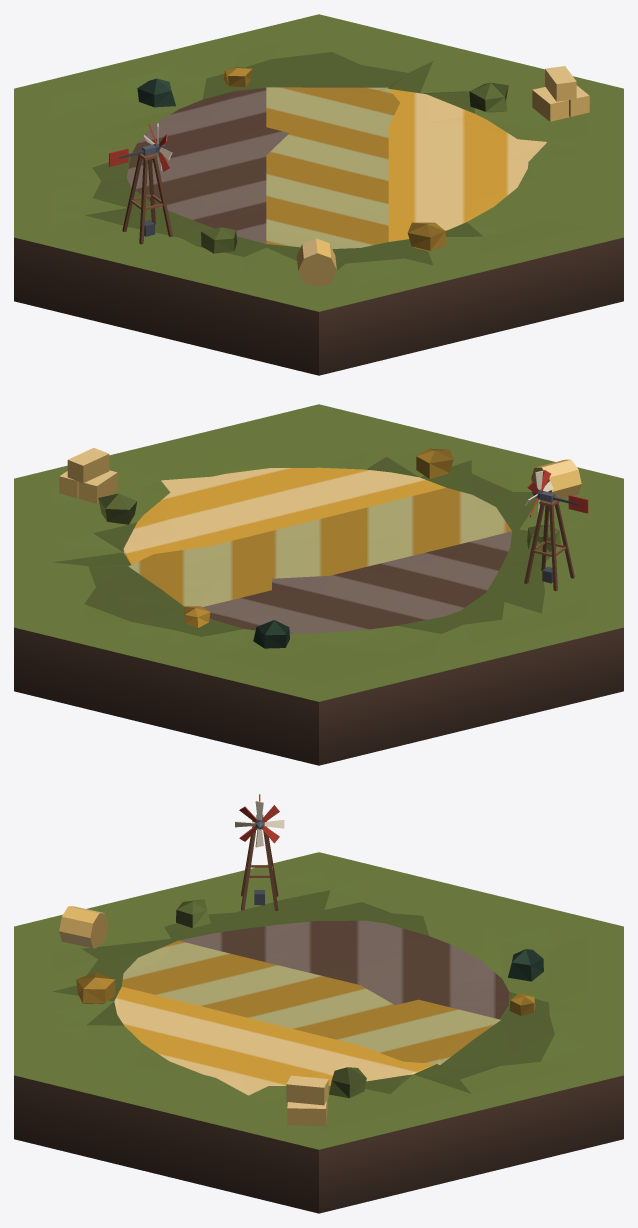
The model's file is SM_Tile_WindFarm_B.fbx.
3 views of the same model, one above another, from view 1: azimuth 30°, elevation 25°; view 2: azimuth 150°, elevation 25°; view 3: azimuth 270°, elevation 25° (orthographic).
Visible parts, largest first — view 1: SM_Tile_WindFarm_B, Rotor_01; view 2: SM_Tile_WindFarm_B, Rotor_01; view 3: SM_Tile_WindFarm_B, Rotor_01.
Part boxes in pixels (left/top/right/bottom): SM_Tile_WindFarm_B: left=14, top=14, right=623, bottom=375; Rotor_01: left=144, top=123, right=172, bottom=171; SM_Tile_WindFarm_B: left=14, top=404, right=623, bottom=765; Rotor_01: left=524, top=470, right=553, bottom=517; SM_Tile_WindFarm_B: left=14, top=794, right=623, bottom=1213; Rotor_01: left=235, top=801, right=284, bottom=847.
Bounding box in the file's own units: 20 × 5.32 × 17.32.
